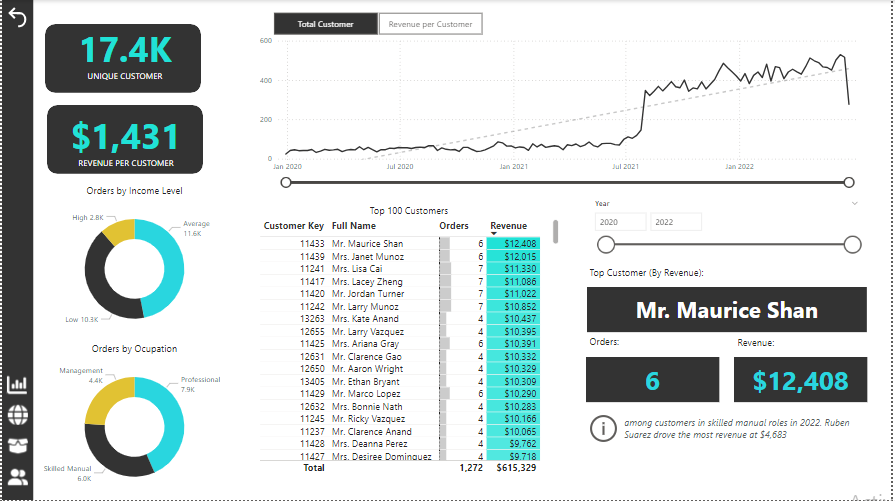

This screenshot's page, from the dashboard's own definition file:
{"tool":"powerbi","page":{"name":"Customer Detail","canvas":[1280,720],"ordinal":3},"visuals":[{"type":"shape","box":[0,0,45,720],"z":0},{"type":"actionButton","box":[2.9,535.3,44.6,37.4],"z":0,"group":"g1"},{"type":"shape","box":[61.9,34.6,224.6,99.4],"z":1000},{"type":"actionButton","box":[4.3,668.2,44.6,37.4],"z":1000,"group":"g1"},{"type":"actionButton","box":[4.3,623.5,44.6,37.4],"z":2000,"group":"g1"},{"type":"shape","box":[64.8,151.2,224.6,99.4],"z":2000},{"type":"card","fields":{"Values":["Measure Table.Total Customer"]},"box":[54.7,1.4,244.8,149.8],"z":3000},{"type":"actionButton","box":[4.3,578.9,44.6,37.4],"z":3000,"group":"g1"},{"type":"card","fields":{"Values":["Measure Table.Average Revenue per Customer"]},"box":[56.2,126.7,244.8,149.8],"z":4000},{"type":"lineChart","fields":{"Y":["Measure Table.Total Customer"],"Category":["Calendar Lookup.Date Hierarchy.Start of Year","Calendar Lookup.Date Hierarchy.Start of Month","Calendar Lookup.Date Hierarchy.Start of Week","Calendar Lookup.Date Hierarchy.Date"]},"box":[365.8,44.6,879.8,229],"z":5000},{"type":"donutChart","title":"Orders by Income Level","fields":{"Category":["Customer Lookup.Income Level"],"Y":["Measure Table.Total Orders"]},"box":[54.7,265,272.2,227.5],"z":6000},{"type":"donutChart","title":"Orders by Ocupation","fields":{"Y":["Measure Table.Total Orders"],"Category":["Customer Lookup.Occupation"]},"box":[54.7,492.5,272.2,227.5],"z":7000},{"type":"tableEx","title":"Top 100 Customers","fields":{"Values":["Customer Lookup.CustomerKey","Customer Lookup.Full Name","Measure Table.Total Orders","Measure Table.Total Revenue"]},"box":[365.8,293.1,440.6,391.7],"z":8000},{"type":"card","fields":{"Values":["Customer Lookup.Full Name (Customer Detail)"]},"box":[842.4,412.6,403.2,64.8],"z":9000},{"type":"card","fields":{"Values":["Measure Table.Total Orders (Customer Detail)"]},"box":[841,513.4,191.5,64.8],"z":10000},{"type":"card","fields":{"Values":["Measure Table.Total Revenue (Customer Detail)"]},"box":[1054.1,513.4,191.5,64.8],"z":11000},{"type":"textbox","box":[841,378.1,191.5,34.6],"z":12000},{"type":"textbox","box":[1054.1,478.9,191.5,34.6],"z":13000},{"type":"textbox","box":[841,477.4,191.5,34.6],"z":14000},{"type":"slicer","fields":{"Values":["Calendar Lookup.Year"]},"box":[841,281.6,404.6,89.3],"z":15000},{"type":"actionButton","box":[841,591.2,404.6,50.4],"z":16000},{"type":"actionButton","box":[2.9,4.3,38.9,40.3],"z":17000},{"type":"group","id":"g1","title":"Navigation Buttons","box":[2.9,535.3,46.1,170.3],"z":18000},{"type":"slicer","fields":{"Values":["Customer Metric Selection.Customer Metric Selection"]},"box":[365.8,11.5,349.9,44.6],"z":19000}]}

Visuals, with their boxes in screenshot pixels (x1, y1, x2, y2), scaled from the page's 1280x720 canvas onto the 895x501 screenshot:
shape: <region>0, 0, 31, 500</region>
actionButton: <region>2, 372, 33, 399</region>
shape: <region>43, 24, 200, 93</region>
actionButton: <region>3, 465, 34, 491</region>
actionButton: <region>3, 434, 34, 460</region>
shape: <region>45, 105, 202, 174</region>
card - Measure Table.Total Customer: <region>38, 1, 209, 105</region>
actionButton: <region>3, 403, 34, 429</region>
card - Measure Table.Average Revenue per Customer: <region>39, 88, 210, 192</region>
lineChart - Measure Table.Total Customer x Calendar Lookup.Date Hierarchy.Start of Year: <region>256, 31, 871, 190</region>
"Orders by Income Level" donutChart: <region>38, 184, 229, 343</region>
"Orders by Ocupation" donutChart: <region>38, 343, 229, 500</region>
"Top 100 Customers" tableEx: <region>256, 204, 564, 477</region>
card - Customer Lookup.Full Name (Customer Detail): <region>589, 287, 871, 332</region>
card - Measure Table.Total Orders (Customer Detail): <region>588, 357, 722, 402</region>
card - Measure Table.Total Revenue (Customer Detail): <region>737, 357, 871, 402</region>
textbox: <region>588, 263, 722, 287</region>
textbox: <region>737, 333, 871, 357</region>
textbox: <region>588, 332, 722, 356</region>
slicer - Calendar Lookup.Year: <region>588, 196, 871, 258</region>
actionButton: <region>588, 411, 871, 446</region>
actionButton: <region>2, 3, 29, 31</region>
"Navigation Buttons" group: <region>2, 372, 34, 491</region>
slicer - Customer Metric Selection.Customer Metric Selection: <region>256, 8, 500, 39</region>
